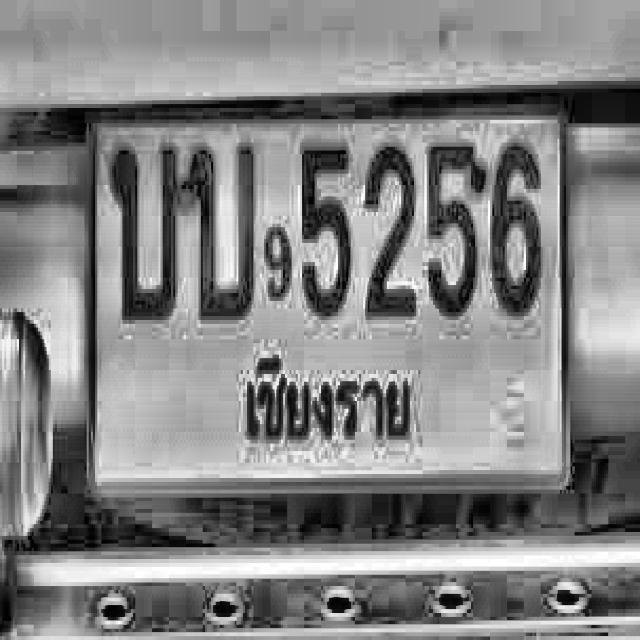license-plate: (84, 99, 574, 502)
